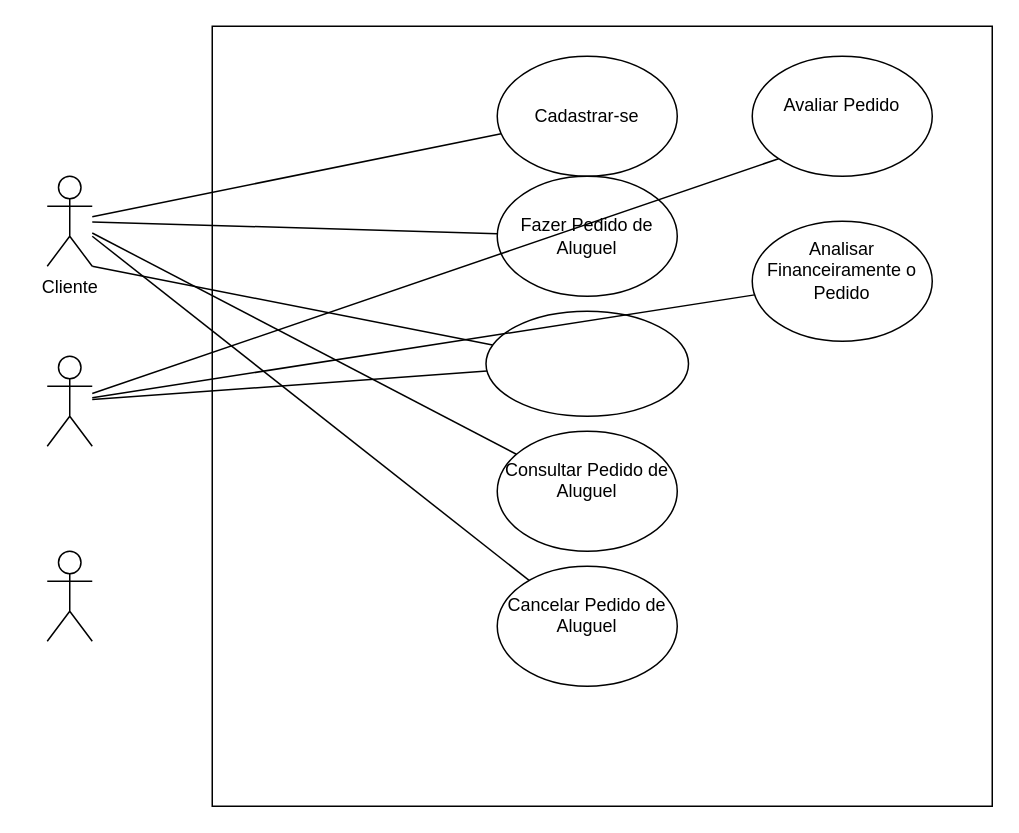
Some shapes in this 1019 by 833 pixel diagram are drawn without their labels. The centre of each missing label's shape, as x and y in pixels:
Empresa e Banco: the point at 69,400
Modificar Pedido de Aluguel: the point at 586,363
Sistema: the point at 69,595
